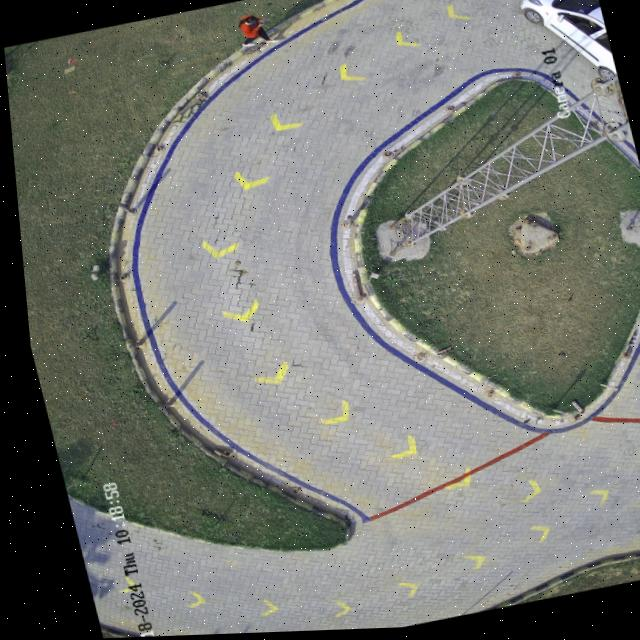car: (522, 0, 616, 80)
